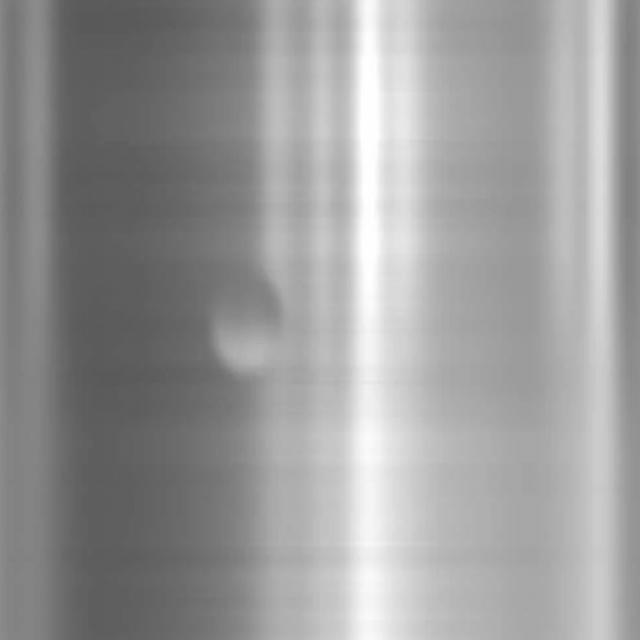dents: (191, 247, 301, 391)
